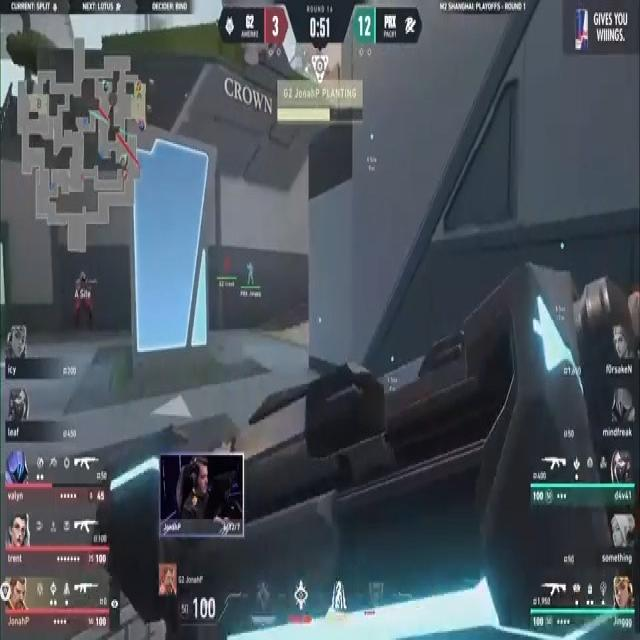ally behind wall: (244, 255, 258, 295)
enemy: (72, 267, 98, 329)
